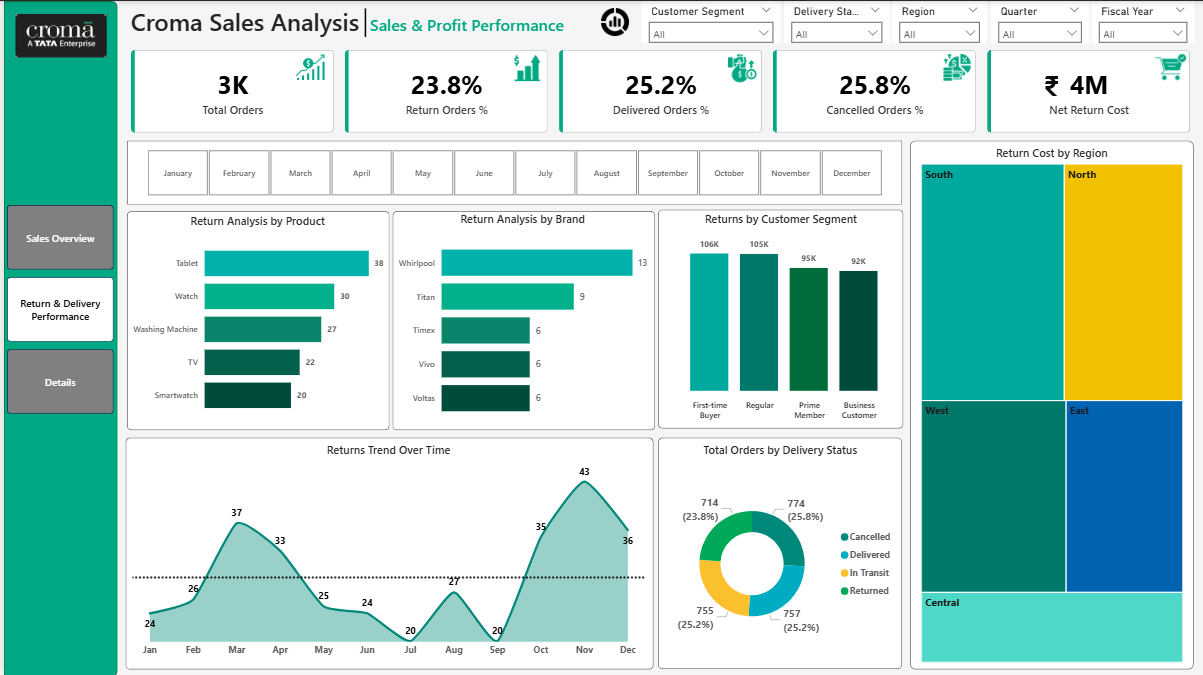

Layout of this report page (visuals, bound fields, positions):
{"tool":"powerbi","page":{"name":"Return & Delivery Performance","canvas":[1600,900],"ordinal":1},"visuals":[{"type":"shape","box":[0,0,151.1,900],"z":0},{"type":"textbox","box":[164.4,0,601.1,56.7],"z":1000},{"type":"shape","box":[467.8,10,27.8,37.8],"z":2000},{"type":"cardVisual","fields":{"Data":["Sheet1.Total Orders","Sheet1.Return Orders %","Sheet1.Delivered Orders %","Sheet1.Cancelled Orders %","Sheet1.Net Return Cost"]},"box":[163.3,60,1421.7,120],"z":3000},{"type":"image","box":[671.7,65,51.7,46.7],"z":4000},{"type":"image","box":[958.3,61.7,48.3,55],"z":5000},{"type":"textbox","box":[1380.1,85.5,28.5,55.8],"z":6000},{"type":"image","box":[1241.7,63.3,53.3,48.3],"z":7000},{"type":"image","box":[380,61.7,56.7,53.3],"z":8000},{"type":"image","box":[1523.3,61.7,58.3,51.7],"z":9000},{"type":"slicer","fields":{"Values":["Sheet1.Fiscal Year"]},"box":[1447.2,0,137.1,56.2],"z":10000},{"type":"slicer","fields":{"Values":["Sheet1.Quarter"]},"box":[1313.5,0,130.3,56.2],"z":11000},{"type":"slicer","fields":{"Values":["Sheet1.Region"]},"box":[1183.1,0,127,56.2],"z":12000},{"type":"slicer","fields":{"Values":["Sheet1.Delivery Status"]},"box":[1039.3,0,140.4,56.2],"z":13000},{"type":"slicer","fields":{"Values":["Sheet1.Customer Segment"]},"box":[849.3,0,185,55.9],"z":14000},{"type":"image","box":[9,7.9,131.5,76.4],"z":15000},{"type":"image","box":[786.7,3.3,53.3,47.8],"z":16000},{"type":"shape","box":[163.7,278.9,349.6,292],"z":17000},{"type":"shape","box":[517.2,278.9,349.6,292],"z":18000},{"type":"shape","box":[162.4,581.3,703.1,309],"z":19000},{"type":"shape","box":[871.7,278.3,326.7,291.7],"z":20000},{"type":"shape","box":[871.7,581.7,325,308.3],"z":21000},{"type":"donutChart","fields":{"Category":["Sheet1.Delivery Status"],"Y":["Sheet1.Total Orders"]},"box":[873.3,586.7,321.7,303.3],"z":22000},{"type":"shape","box":[163.3,185.6,1032.2,85.6],"z":23000},{"type":"slicer","fields":{"Values":["Sheet1.OrderDate.Variation.Date Hierarchy.Month"]},"box":[165.6,191.1,1026.7,73.3],"z":24000},{"type":"areaChart","title":"Returns Trend Over Time","fields":{"Category":["Sheet1.Month_short"],"Y":["Sheet1.Return Count"]},"box":[166.3,586.6,692.6,294.6],"z":25000},{"type":"barChart","title":"Return Analysis by Product","fields":{"Category":["Sheet1.Product"],"Y":["Sheet1.Return Count"]},"box":[166.4,281.5,344.2,283.8],"z":26000},{"type":"barChart","title":"Return Analysis by Brand","fields":{"Category":["Sheet1.Brand"],"Y":["Sheet1.Return Count"]},"box":[519.7,279.2,343,290.6],"z":27000},{"type":"shape","box":[1205.6,185.6,377.8,704.4],"z":28000},{"type":"treemap","title":"Return Cost by Region","fields":{"Group":["Sheet1.Region"],"Values":["Sum(Sheet1.Return Cost)"]},"box":[1215.6,191.1,357.8,693.3],"z":29000},{"type":"columnChart","title":"Returns by Customer Segment","fields":{"Category":["Sheet1.Customer Segment"],"Y":["Sum(Sheet1.Return Cost)"]},"box":[872.9,279.2,323.6,286],"z":30000},{"type":"pageNavigator","box":[3.3,271.1,142.2,278.9],"z":31000}]}

Visuals, with their boxes in screenshot pixels (x1, y1, x2, y2), scaled from the page's 1600x900 canvas onto the 1203x675 screenshot:
shape: left=0, top=0, right=114, bottom=674
textbox: left=124, top=0, right=576, bottom=43
shape: left=352, top=8, right=373, bottom=36
cardVisual - Sheet1.Total Orders x Sheet1.Return Orders %: left=123, top=45, right=1192, bottom=135
image: left=505, top=49, right=544, bottom=84
image: left=721, top=46, right=757, bottom=88
textbox: left=1038, top=64, right=1059, bottom=106
image: left=934, top=47, right=974, bottom=84
image: left=286, top=46, right=328, bottom=86
image: left=1145, top=46, right=1189, bottom=85
slicer - Sheet1.Fiscal Year: left=1088, top=0, right=1191, bottom=42
slicer - Sheet1.Quarter: left=988, top=0, right=1086, bottom=42
slicer - Sheet1.Region: left=890, top=0, right=985, bottom=42
slicer - Sheet1.Delivery Status: left=781, top=0, right=887, bottom=42
slicer - Sheet1.Customer Segment: left=639, top=0, right=778, bottom=42
image: left=7, top=6, right=106, bottom=63
image: left=592, top=2, right=632, bottom=38
shape: left=123, top=209, right=386, bottom=428
shape: left=389, top=209, right=652, bottom=428
shape: left=122, top=436, right=651, bottom=668
shape: left=655, top=209, right=901, bottom=428
shape: left=655, top=436, right=900, bottom=668
donutChart - Sheet1.Delivery Status x Sheet1.Total Orders: left=657, top=440, right=898, bottom=668
shape: left=123, top=139, right=899, bottom=203
slicer - Sheet1.OrderDate.Variation.Date Hierarchy.Month: left=125, top=143, right=896, bottom=198
"Returns Trend Over Time" areaChart: left=125, top=440, right=646, bottom=661
"Return Analysis by Product" barChart: left=125, top=211, right=384, bottom=424
"Return Analysis by Brand" barChart: left=391, top=209, right=649, bottom=427
shape: left=906, top=139, right=1191, bottom=668
"Return Cost by Region" treemap: left=914, top=143, right=1183, bottom=663
"Returns by Customer Segment" columnChart: left=656, top=209, right=900, bottom=424
pageNavigator: left=2, top=203, right=109, bottom=412
